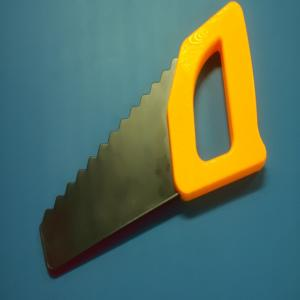serrote: (39, 1, 267, 272)
